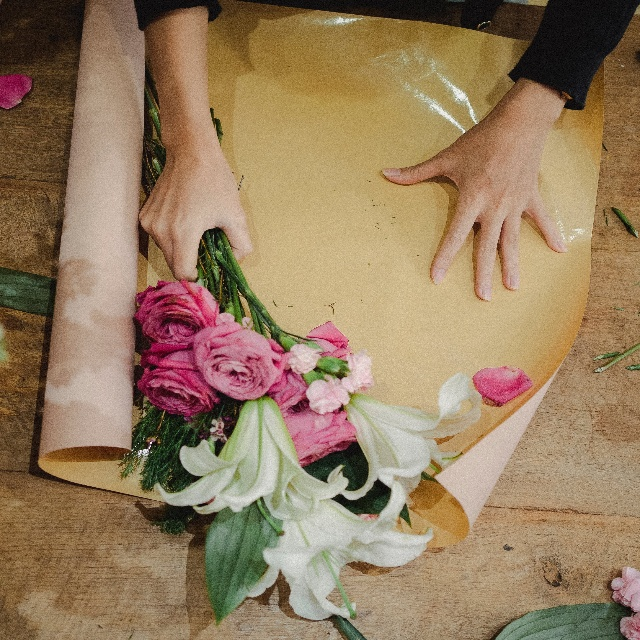Sin_guantes: (382, 83, 569, 299), (138, 149, 253, 284)
